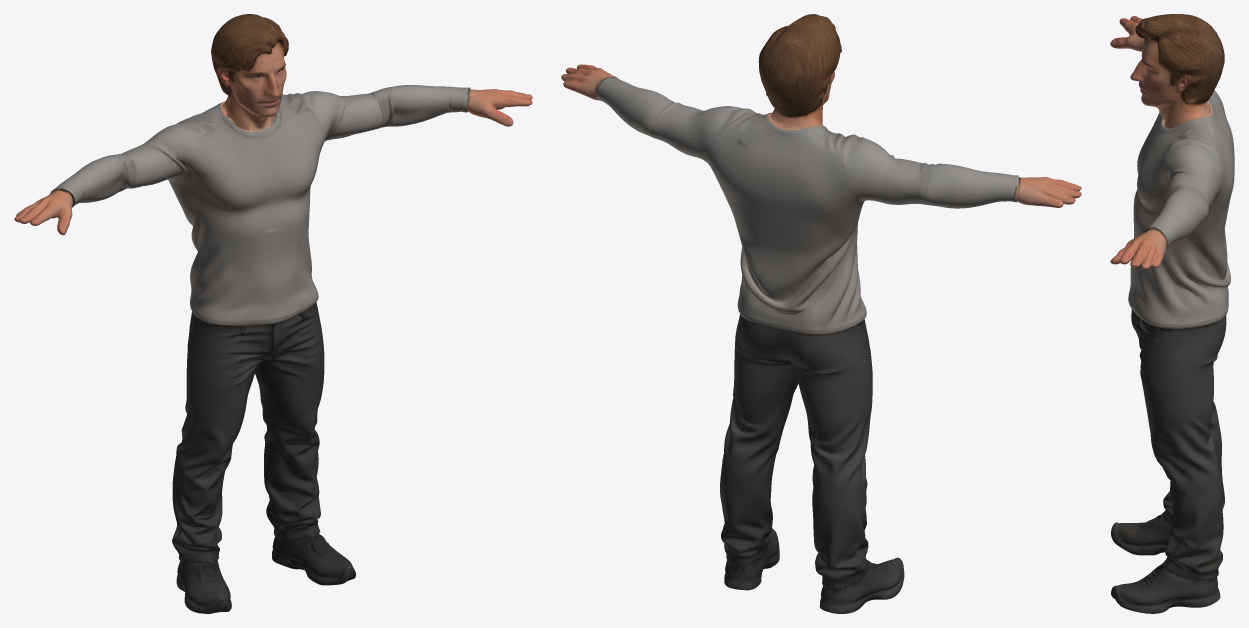
File: man_noarmature.fbx
The picture shows the model from 3 angles, left to right: view 1: azimuth 30°, elevation 25°; view 2: azimuth 150°, elevation 25°; view 3: azimuth 270°, elevation 25°; orthographic projection.
Visible parts, largest first — view 1: material.001; view 2: material.001; view 3: material.001.
Part boxes in pixels (x1,y1,x2,y2): material.001: [14, 14, 532, 613]; material.001: [561, 14, 1081, 613]; material.001: [1110, 14, 1234, 613].
Bounding box in the file's own units: 103 × 108 × 21.73.
Materials: 1 (1 with a texture image).
